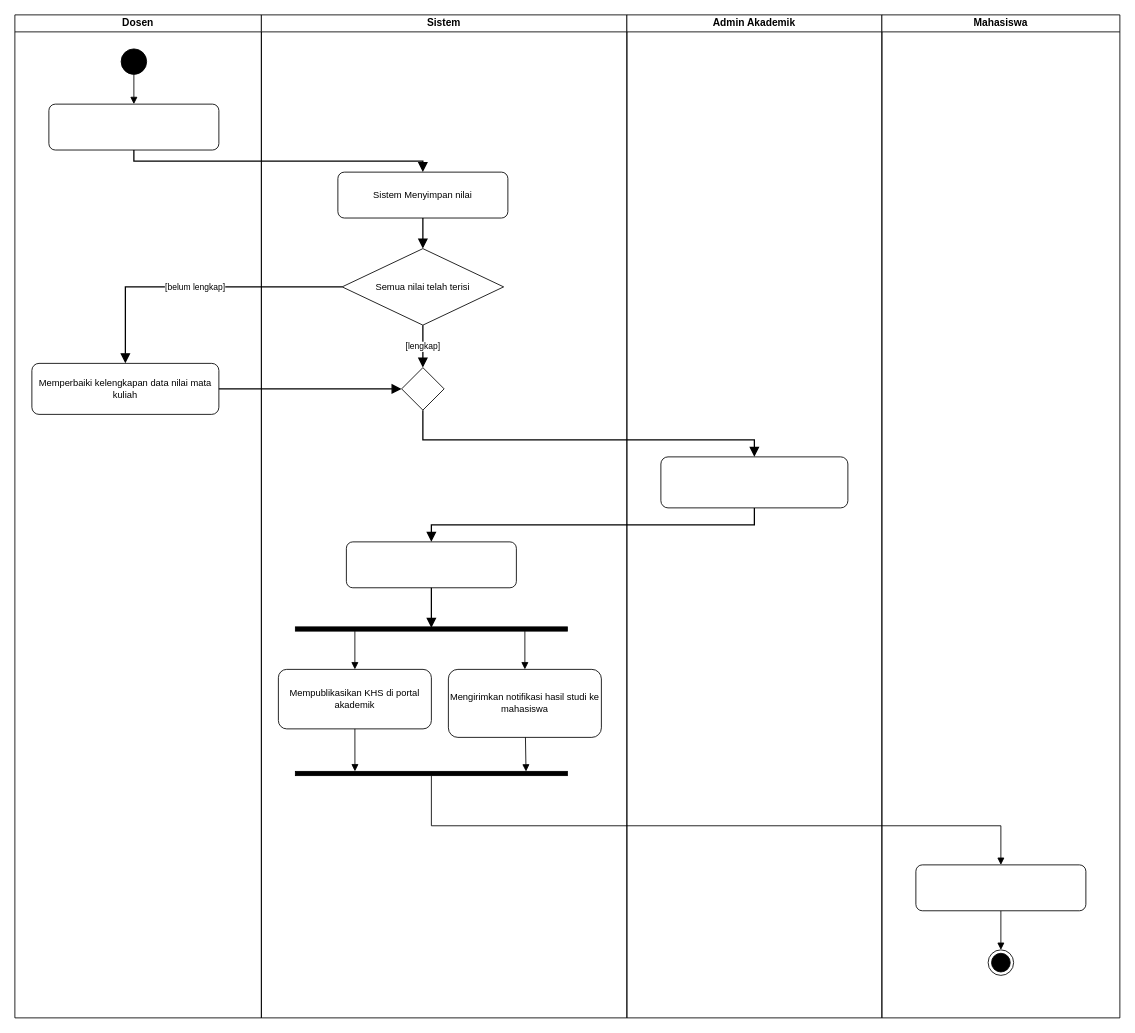
This 1135x1033 diagram has some shape labels left out. The shapes that lost their labels are listed below. From the top down, each one's centre as x and y in pixels, then its label:
At point (133, 126): "Menginput nilai mata kuliah".
At point (754, 482): "Memverifikasi dan menetapkan nilai".
At point (431, 564): "Mengemas hasil studi untuk dipublikasikan".
At point (1000, 887): "Membuka KHS".
